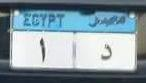1: (37, 38, 47, 61)
daal: (100, 43, 114, 60)
